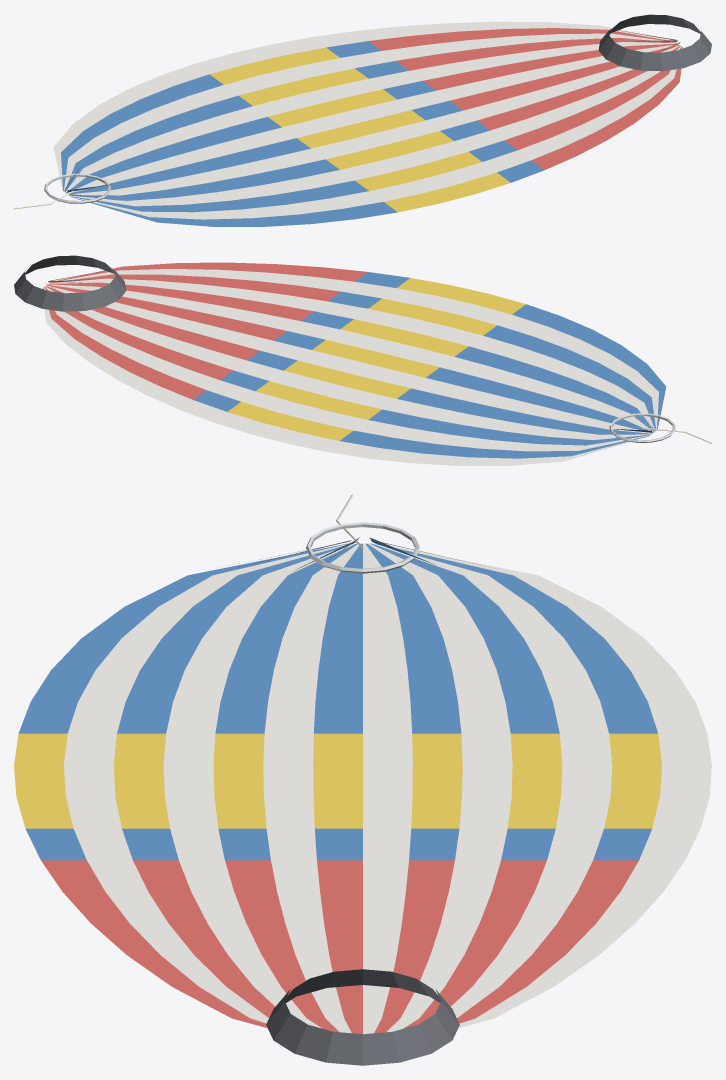
File: hot-air-balloon-festival-balloon-envelope-laid-out-blu-839caf0d__38469.glb
3 renders of one model, top to bottom at view 1: azimuth 30°, elevation 25°; view 2: azimuth 150°, elevation 25°; view 3: azimuth 270°, elevation 25°, orthographic. The views are drawn at different scales.
Parts seen in each view (by area): view 1: balloon-envelope-laid-out-blue-livery-canvasB, balloon-envelope-laid-out-blue-livery-canvasA, balloon-envelope-laid-out-blue-livery-canvasD, balloon-envelope-laid-out-blue-livery-canvasC, balloon-envelope-laid-out-blue-livery-charcoal, balloon-envelope-laid-out-blue-livery-steel; view 2: balloon-envelope-laid-out-blue-livery-canvasB, balloon-envelope-laid-out-blue-livery-canvasA, balloon-envelope-laid-out-blue-livery-canvasD, balloon-envelope-laid-out-blue-livery-canvasC, balloon-envelope-laid-out-blue-livery-charcoal, balloon-envelope-laid-out-blue-livery-steel; view 3: balloon-envelope-laid-out-blue-livery-canvasB, balloon-envelope-laid-out-blue-livery-canvasA, balloon-envelope-laid-out-blue-livery-canvasD, balloon-envelope-laid-out-blue-livery-canvasC, balloon-envelope-laid-out-blue-livery-charcoal, balloon-envelope-laid-out-blue-livery-steel.
Boxes of the visible parts, box(x1,y1,x2,y2) form: balloon-envelope-laid-out-blue-livery-canvasB: box(53, 21, 682, 219); balloon-envelope-laid-out-blue-livery-canvasA: box(61, 41, 544, 226); balloon-envelope-laid-out-blue-livery-canvasD: box(368, 28, 683, 169); balloon-envelope-laid-out-blue-livery-canvasC: box(210, 47, 510, 212); balloon-envelope-laid-out-blue-livery-charcoal: box(598, 14, 711, 71); balloon-envelope-laid-out-blue-livery-steel: box(44, 173, 110, 203); balloon-envelope-laid-out-blue-livery-canvasB: box(42, 269, 658, 465); balloon-envelope-laid-out-blue-livery-canvasA: box(193, 272, 666, 458); balloon-envelope-laid-out-blue-livery-canvasD: box(42, 262, 367, 399); balloon-envelope-laid-out-blue-livery-canvasC: box(228, 278, 525, 440); balloon-envelope-laid-out-blue-livery-charcoal: box(14, 255, 126, 311); balloon-envelope-laid-out-blue-livery-steel: box(609, 413, 675, 442); balloon-envelope-laid-out-blue-livery-canvasB: box(64, 537, 711, 1034); balloon-envelope-laid-out-blue-livery-canvasA: box(18, 537, 657, 860); balloon-envelope-laid-out-blue-livery-canvasD: box(41, 860, 638, 1034); balloon-envelope-laid-out-blue-livery-canvasC: box(14, 733, 661, 828); balloon-envelope-laid-out-blue-livery-charcoal: box(266, 969, 459, 1065); balloon-envelope-laid-out-blue-livery-steel: box(306, 522, 419, 573).
Bounding box in the file's own units: 26.07 × 0.6166 × 13.4.
